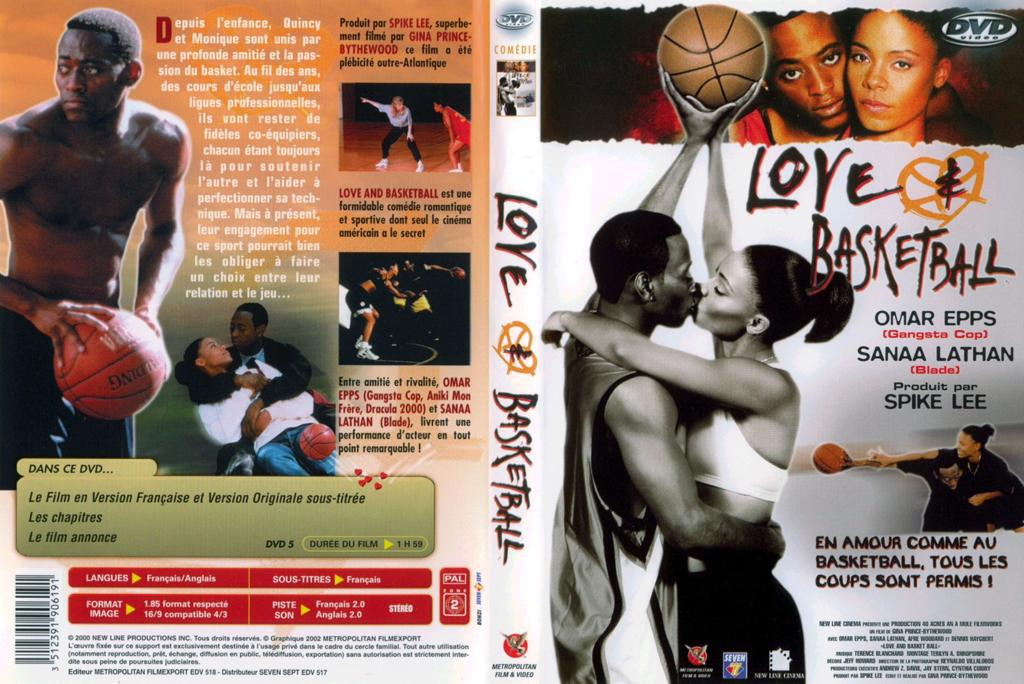face: (848, 20, 937, 131), (770, 19, 851, 128), (57, 38, 128, 121), (694, 252, 747, 331), (654, 235, 692, 327), (231, 315, 257, 351), (203, 340, 233, 365), (940, 469, 960, 490), (958, 436, 976, 458), (396, 102, 404, 111), (392, 265, 398, 276), (434, 103, 440, 113)
